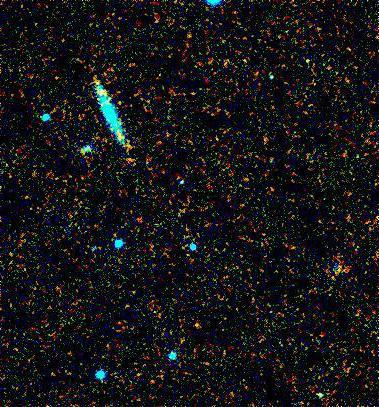star: (290, 51, 320, 81)
